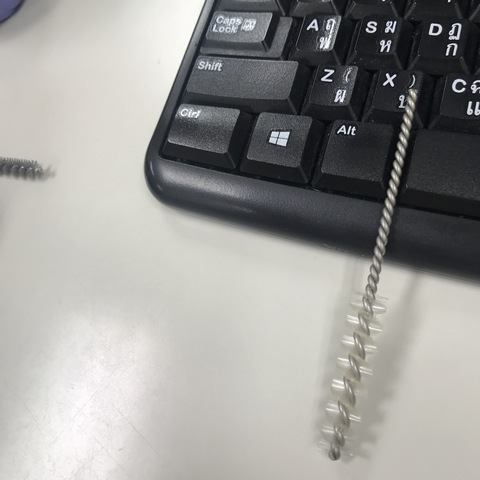Twist Brush-A: (1, 147, 62, 184)
Twist Brush-B: (309, 86, 426, 462)
